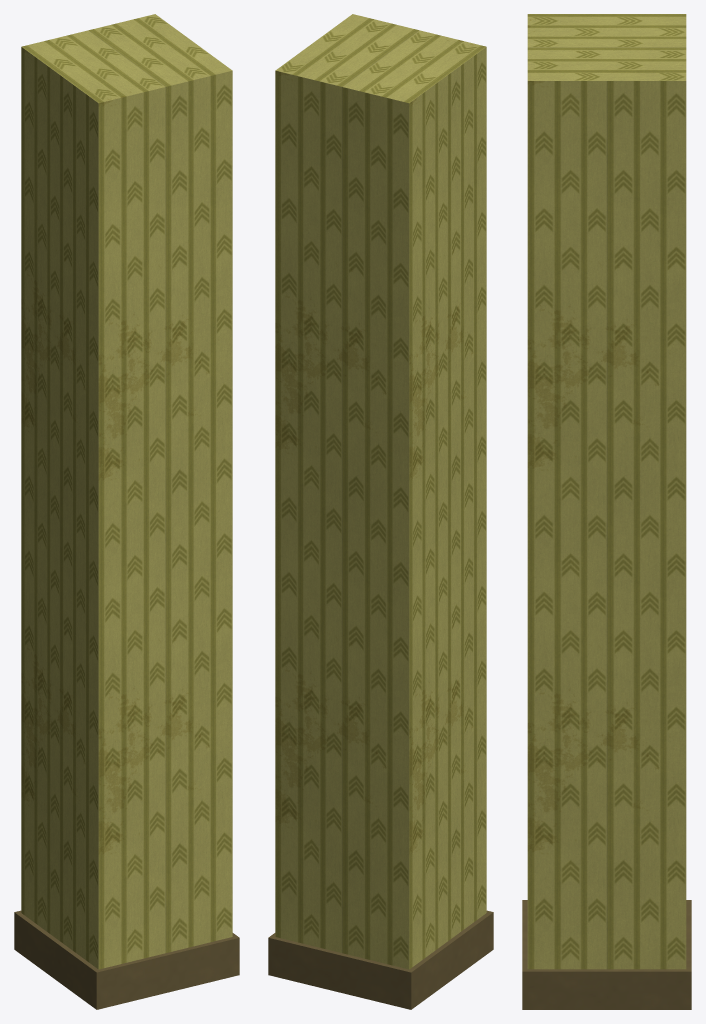
File: SM_L0_Pillar.fbx
The picture shows the model from 3 angles, left to right: view 1: azimuth 30°, elevation 25°; view 2: azimuth 150°, elevation 25°; view 3: azimuth 270°, elevation 25°; orthographic projection. The views are drawn at different scales.
Parts seen in each view (by area): view 1: SM_L0_Pillar; view 2: SM_L0_Pillar; view 3: SM_L0_Pillar.
Part boxes in pixels (x1,y1,x2,y2): SM_L0_Pillar: (14, 14, 239, 1009); SM_L0_Pillar: (268, 14, 493, 1009); SM_L0_Pillar: (522, 14, 691, 1009).
Size of what is drawn, in the model's own units: 0.48 by 2.9 by 0.48.
